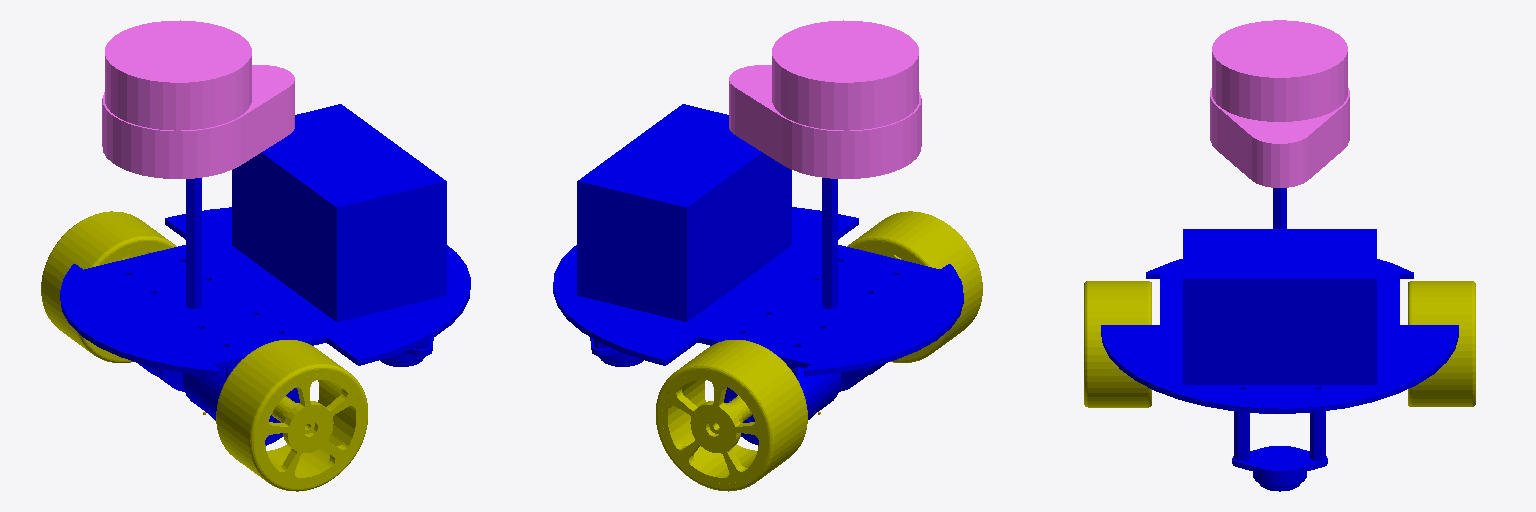
robot.urdf — mbot_description:
<?xml version="1.0" encoding="utf-8"?>
<!-- This URDF was automatically created by SolidWorks to URDF Exporter! Originally created by [author] ([email redacted]) 
     Commit Version: 1.5.1-0-g916b5db  Build Version: 1.5.7152.31018
     For more information, please see http://wiki.ros.org/sw_urdf_exporter -->
<robot
  name="mbot_description">
    <link name="base_footprint">
        <visual>
            <origin xyz="0 0 0" rpy="0 0 0" />
            <geometry>
                <box size="0.001 0.001 0.001" />
            </geometry>
        </visual>
    </link>
    
    <gazebo reference="base_footprint">
        <turnGravityOff>false</turnGravityOff>
    </gazebo>

    <joint name="base_footprint_joint" type="fixed">
        <origin xyz="0 0 0.0325" rpy="0 0 0" />     
        <parent link="base_footprint"/>
        <child link="base_link" />
    </joint>
    
  <link
    name="base_link">
    <inertial>
      <origin
        xyz="0.054502 3.0092E-08 0.03823"
        rpy="0 0 0" />
      <mass
        value="0.55781" />
      <inertia
        ixx="0.0010536"
        ixy="-1.0524E-10"
        ixz="-0.00034992"
        iyy="0.0013054"
        iyz="1.3362E-10"
        izz="0.0014142" />
    </inertial>
    <visual>
      <origin
        xyz="0 0 0"
        rpy="0 0 0" />
      <geometry>
        <mesh
          filename="package://mbot_description/meshes/base_link.STL" />
      </geometry>
      <material
        name="">
        <color
          rgba="0 0 1 1" />
      </material>
    </visual>
    <collision>
      <origin
        xyz="0 0 0"
        rpy="0 0 0" />
      <geometry>
        <mesh
          filename="package://mbot_description/meshes/base_link.STL" />
      </geometry>
    </collision>
  </link>
  <link
    name="left_wheel_link">
    <inertial>
      <origin
        xyz="1.6258E-11 0.0011484 1.0045E-11"
        rpy="0 0 0" />
      <mass
        value="0.14183" />
      <inertia
        ixx="6.9596E-05"
        ixy="3.2338E-14"
        ixz="4.9289E-10"
        iyy="0.00010882"
        iyz="2.7988E-14"
        izz="6.9596E-05" />
    </inertial>
    <visual>
      <origin
        xyz="0 0 0"
        rpy="0 0 0" />
      <geometry>
        <mesh
          filename="package://mbot_description/meshes/left_wheel_link.STL" />
      </geometry>
      <material
        name="">
        <color
          rgba="0.75294 0.75294 0 1" />
      </material>
    </visual>
    <collision>
      <origin
        xyz="0 0 0"
        rpy="0 0 0" />
      <geometry>
        <mesh
          filename="package://mbot_description/meshes/left_wheel_link.STL" />
      </geometry>
    </collision>
  </link>
  <joint
    name="left_wheel_joint"
    type="continuous">
    <origin
      xyz="0 0.083 0"
      rpy="0 0 0" />
    <parent
      link="base_link" />
    <child
      link="left_wheel_link" />
    <axis
      xyz="0 1 0" />
  </joint>
  <link
    name="right_wheel_link">
    <inertial>
      <origin
        xyz="-2.1963E-12 -0.0011484 1.8984E-11"
        rpy="0 0 0" />
      <mass
        value="0.14183" />
      <inertia
        ixx="6.9596E-05"
        ixy="-1.9148E-15"
        ixz="4.9264E-10"
        iyy="0.00010882"
        iyz="-4.2725E-14"
        izz="6.9596E-05" />
    </inertial>
    <visual>
      <origin
        xyz="0 0 0"
        rpy="0 0 0" />
      <geometry>
        <mesh
          filename="package://mbot_description/meshes/right_wheel_link.STL" />
      </geometry>
      <material
        name="">
        <color
          rgba="0.75294 0.75294 0 1" />
      </material>
    </visual>
    <collision>
      <origin
        xyz="0 0 0"
        rpy="0 0 0" />
      <geometry>
        <mesh
          filename="package://mbot_description/meshes/right_wheel_link.STL" />
      </geometry>
    </collision>
  </link>
  <joint
    name="right_wheel_joint"
    type="continuous">
    <origin
      xyz="0 -0.083 0"
      rpy="0 0 0" />
    <parent
      link="base_link" />
    <child
      link="right_wheel_link" />
    <axis
      xyz="0 1 0" />
  </joint>
  <link
    name="caster_link">
    <inertial>
      <origin
        xyz="-1.3878E-17 5.3578E-20 3.4694E-18"
        rpy="0 0 0" />
      <mass
        value="0.0014368" />
      <inertia
        ixx="2.816E-08"
        ixy="0"
        ixz="4.0783E-56"
        iyy="2.816E-08"
        iyz="-3.6734E-40"
        izz="2.816E-08" />
    </inertial>
    <visual>
      <origin
        xyz="0 0 0"
        rpy="0 0 0" />
      <geometry>
        <mesh
          filename="package://mbot_description/meshes/caster_link.STL" />
      </geometry>
      <material
        name="">
        <color
          rgba="1 0 0 1" />
      </material>
    </visual>
    <collision>
      <origin
        xyz="0 0 0"
        rpy="0 0 0" />
      <geometry>
        <mesh
          filename="package://mbot_description/meshes/caster_link.STL" />
      </geometry>
    </collision>
  </link>
  <joint
    name="caster_joint"
    type="fixed">
    <origin
      xyz="0.10754 0 -0.0255"
      rpy="0 0 0" />
    <parent
      link="base_link" />
    <child
      link="caster_link" />
    <axis
      xyz="1 0 0" />
  </joint>
  <link
    name="laser_link">
    <inertial>
      <origin
        xyz="0.0047654 9.587E-19 -0.014165"
        rpy="0 0 0" />
      <mass
        value="0.22205" />
      <inertia
        ixx="0.00011188"
        ixy="1.0393E-21"
        ixz="1.1446E-05"
        iyy="0.00015129"
        iyz="7.0121E-21"
        izz="0.00017193" />
    </inertial>
    <visual>
      <origin
        xyz="0 0 0"
        rpy="0 0 0" />
      <geometry>
        <mesh
          filename="package://mbot_description/meshes/laser_link.STL" />
      </geometry>
      <material
        name="">
        <color
          rgba="1 0.50196 1 1" />
      </material>
    </visual>
    <collision>
      <origin
        xyz="0 0 0"
        rpy="0 0 0" />
      <geometry>
        <mesh
          filename="package://mbot_description/meshes/laser_link.STL" />
      </geometry>
    </collision>
  </link>
  <joint
    name="lidar_joint"
    type="fixed">
    <origin
      xyz="-0.0145 0 0.14775"
      rpy="0 0 0" />
    <parent
      link="base_link" />
    <child
      link="laser_link" />
    <axis
      xyz="0 0 0" />
  </joint>
  
  <!-- friction -->
  <gazebo reference="caster_link">
    <mu1>0</mu1>
    <mu2>0</mu2>
  </gazebo>
  
  <!-- controller -->
    <gazebo>
        <plugin name="differential_drive_controller" 
                filename="libgazebo_ros_diff_drive.so">
            <rosDebugLevel>Debug</rosDebugLevel>
            <publishWheelTF>true</publishWheelTF>
            <robotNamespace>/</robotNamespace>
            <publishTf>1</publishTf>
            <publishWheelJointState>true</publishWheelJointState>
            <alwaysOn>true</alwaysOn>
            <updateRate>100.0</updateRate>
            <legacyMode>true</legacyMode>
            <leftJoint>left_wheel_joint</leftJoint>
            <rightJoint>right_wheel_joint</rightJoint>
            <wheelSeparation>0.16</wheelSeparation>
            <wheelDiameter>0.065</wheelDiameter>
            <broadcastTF>1</broadcastTF>
            <wheelTorque>30</wheelTorque>
            <wheelAcceleration>1.8</wheelAcceleration>
            <commandTopic>cmd_vel</commandTopic>
            <odometryFrame>odom</odometryFrame> 
            <odometryTopic>odom</odometryTopic> 
            <robotBaseFrame>base_footprint</robotBaseFrame>
        </plugin>
    </gazebo>
    
    <gazebo reference="laser_link">
        <sensor type="ray" name="rplidar">
            <pose>0 0 0 0 0 0</pose>
            <visualize>false</visualize>
            <update_rate>5.5</update_rate>
            <ray>
                <scan>
                  <horizontal>
                    <samples>360</samples>
                    <resolution>1</resolution>
                    <min_angle>-3</min_angle>
                    <max_angle>3</max_angle>
                  </horizontal>
                </scan>
                <range>
                  <min>0.10</min>
                  <max>6.0</max>
                  <resolution>0.01</resolution>
                </range>
                <noise>
                  <type>gaussian</type>
                  <mean>0.0</mean>
                  <stddev>0.01</stddev>
                </noise>
            </ray>
            <plugin name="gazebo_rplidar" filename="libgazebo_ros_laser.so">
                <topicName>/scan</topicName>
                <frameName>laser_link</frameName>
            </plugin>
        </sensor>
    </gazebo>
    
</robot>

--- What the picture shows (computed from the rendered views, not written in the file) ---
The picture shows the robot from 3 angles, left to right: view 1: azimuth 30°, elevation 25°; view 2: azimuth 150°, elevation 25°; view 3: azimuth 270°, elevation 25°; orthographic projection.
Robot: mbot_description — 6 links, 5 joints (2 continuous, 3 fixed); root link base_footprint; default pose: all joints at 0.
Visible links, largest first — view 1: base_link, laser_link, right_wheel_link, left_wheel_link; view 2: base_link, laser_link, left_wheel_link, right_wheel_link; view 3: base_link, laser_link, right_wheel_link, left_wheel_link.
Link boxes in pixels (x1,y1,x2,y2): base_link: (60, 104, 470, 445); laser_link: (102, 20, 294, 178); right_wheel_link: (216, 340, 367, 491); left_wheel_link: (41, 211, 176, 362); base_link: (553, 104, 963, 445); laser_link: (729, 20, 921, 178); left_wheel_link: (656, 340, 807, 491); right_wheel_link: (847, 211, 982, 362); base_link: (1101, 188, 1458, 491); laser_link: (1210, 20, 1349, 187); right_wheel_link: (1084, 281, 1151, 407); left_wheel_link: (1408, 281, 1475, 406).
Bounding box of the posed robot: 0.1984 × 0.201 × 0.1933 m (x, y, z).
5 mesh visuals loaded from 5 distinct referenced files (5 binary STL).
